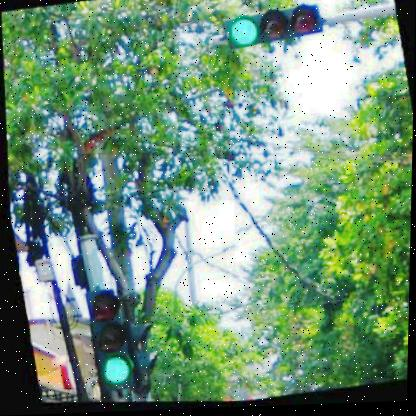Traffic Light -Green-: (79, 288, 136, 396), (223, 4, 326, 52)
